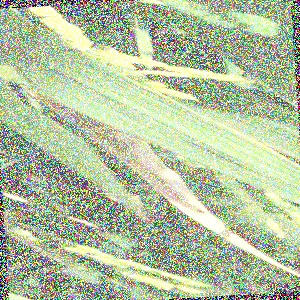Leaf_Blast: (159, 168, 212, 218)
